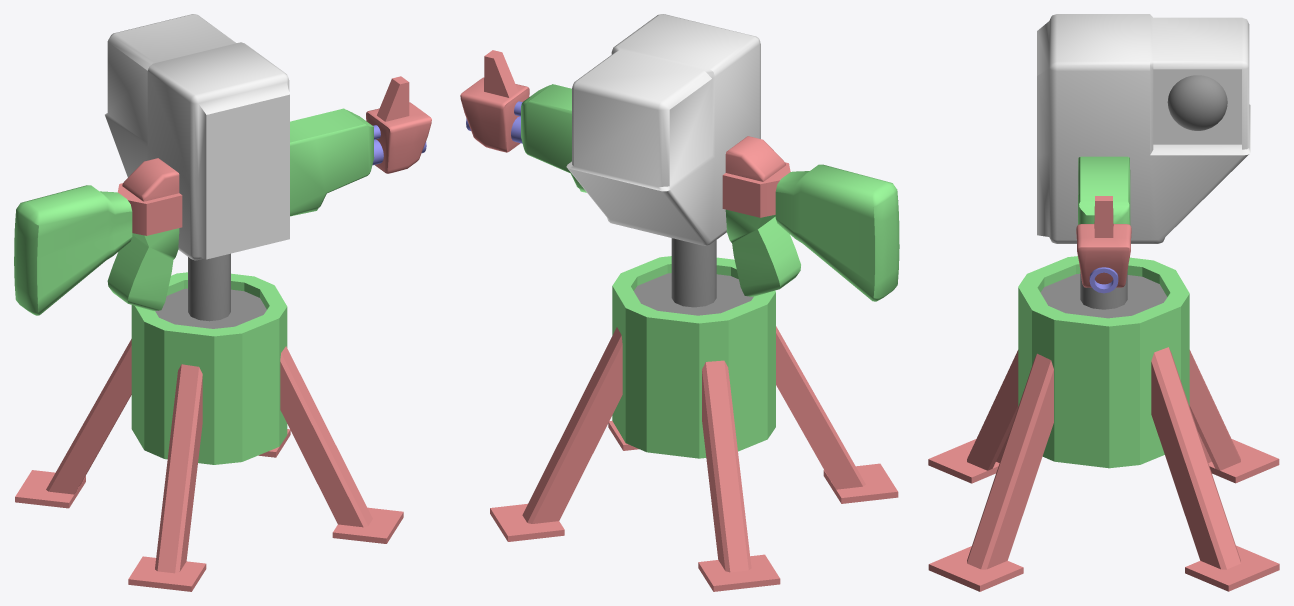
Rendered from Turret.fbx.
The picture shows the model from 3 angles, left to right: view 1: azimuth 30°, elevation 25°; view 2: azimuth 150°, elevation 25°; view 3: azimuth 270°, elevation 25°; orthographic projection. The views are drawn at different scales.
Visible parts, largest first — view 1: SM_RifleTurret, SM_Turret; view 2: SM_RifleTurret, SM_Turret; view 3: SM_Turret, SM_RifleTurret.
Boxes of the visible parts, box(x1,y1,x2,y2) form: SM_RifleTurret: box(14, 14, 431, 315); SM_Turret: box(15, 253, 403, 591); SM_RifleTurret: box(460, 14, 899, 301); SM_Turret: box(490, 238, 898, 591); SM_Turret: box(928, 256, 1279, 591); SM_RifleTurret: box(1037, 14, 1250, 293).
Bounding box in the file's own units: 162 × 171 × 112.
